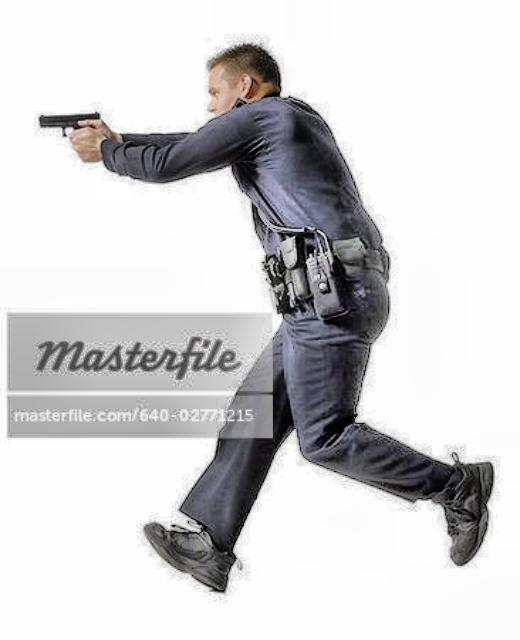pistol: (36, 105, 114, 163)
